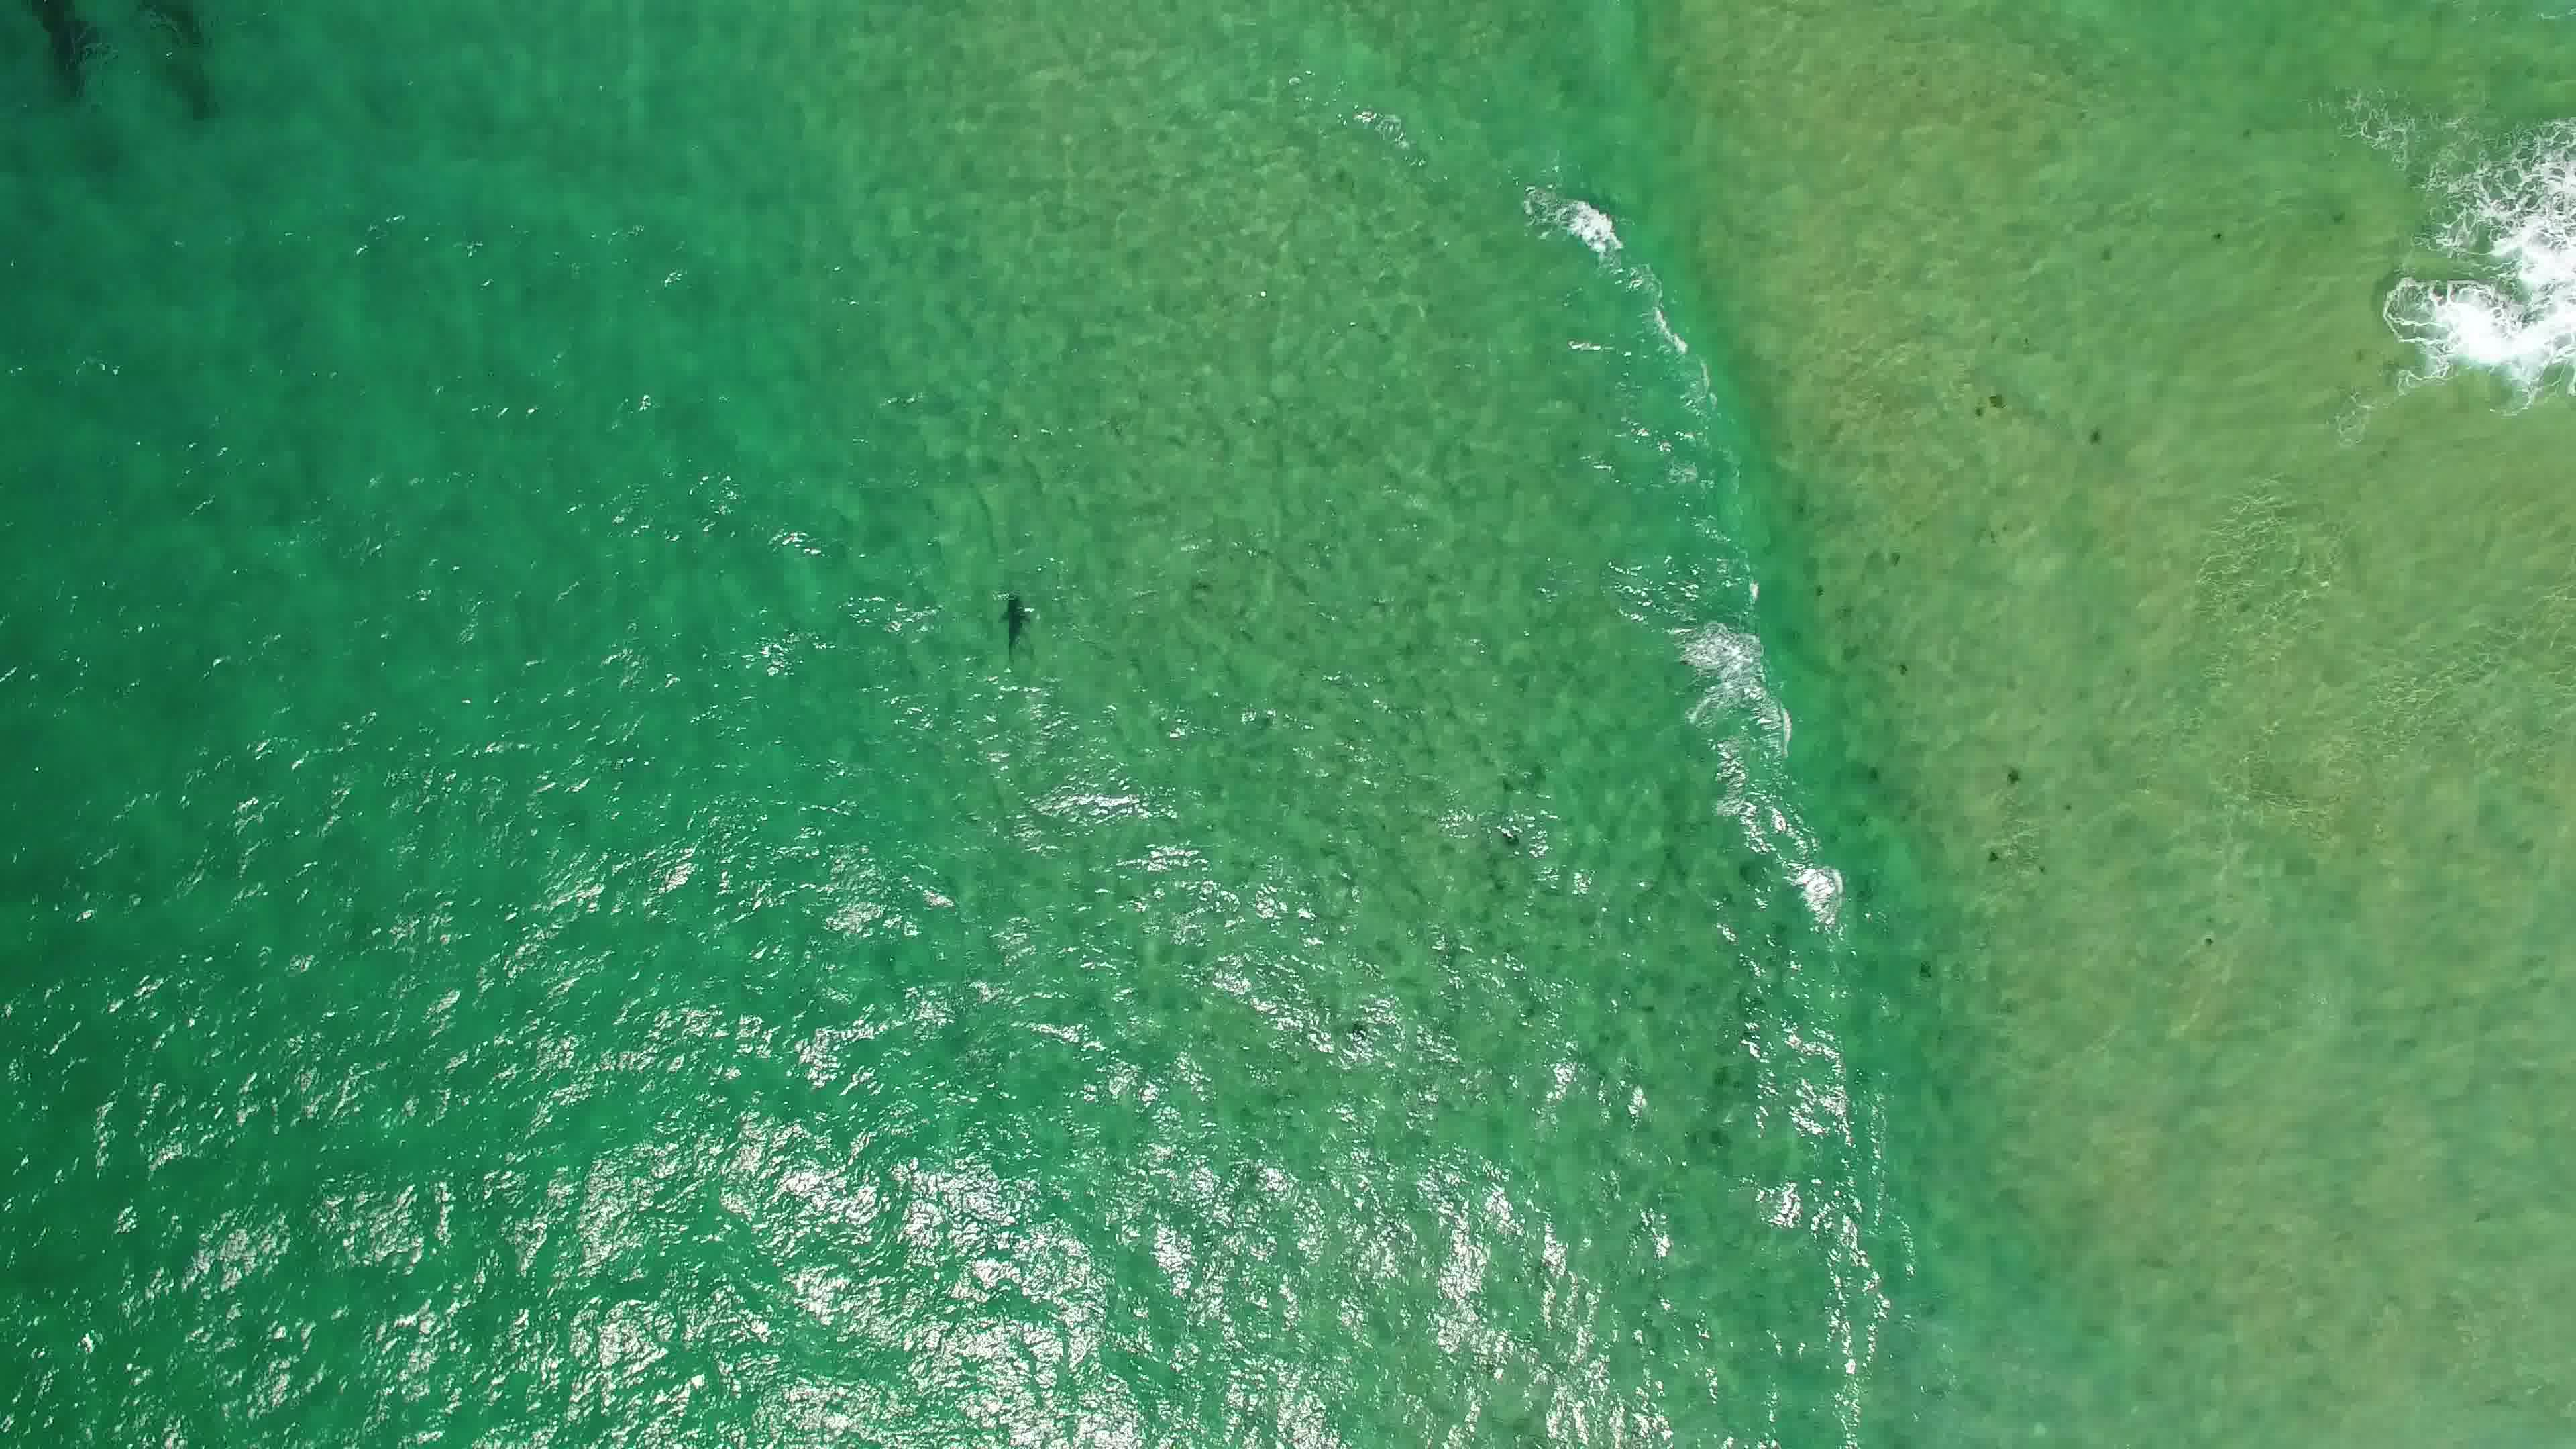shark: (993, 584, 1035, 663)
